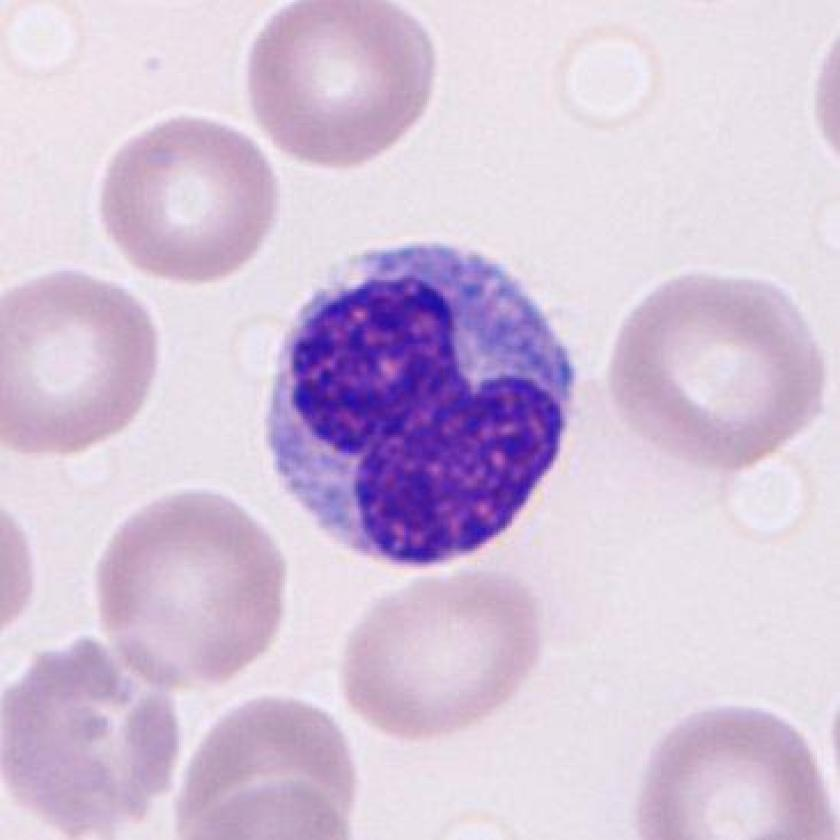monocyte: (249, 227, 602, 580)
